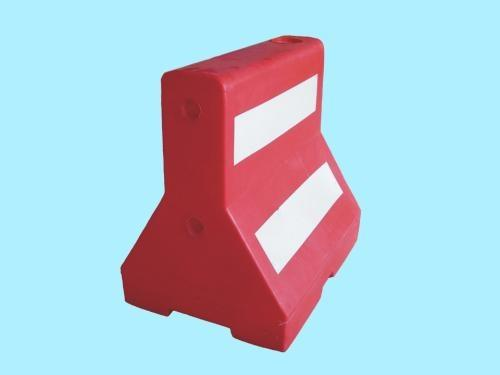cone_barrel: (125, 29, 356, 342)
